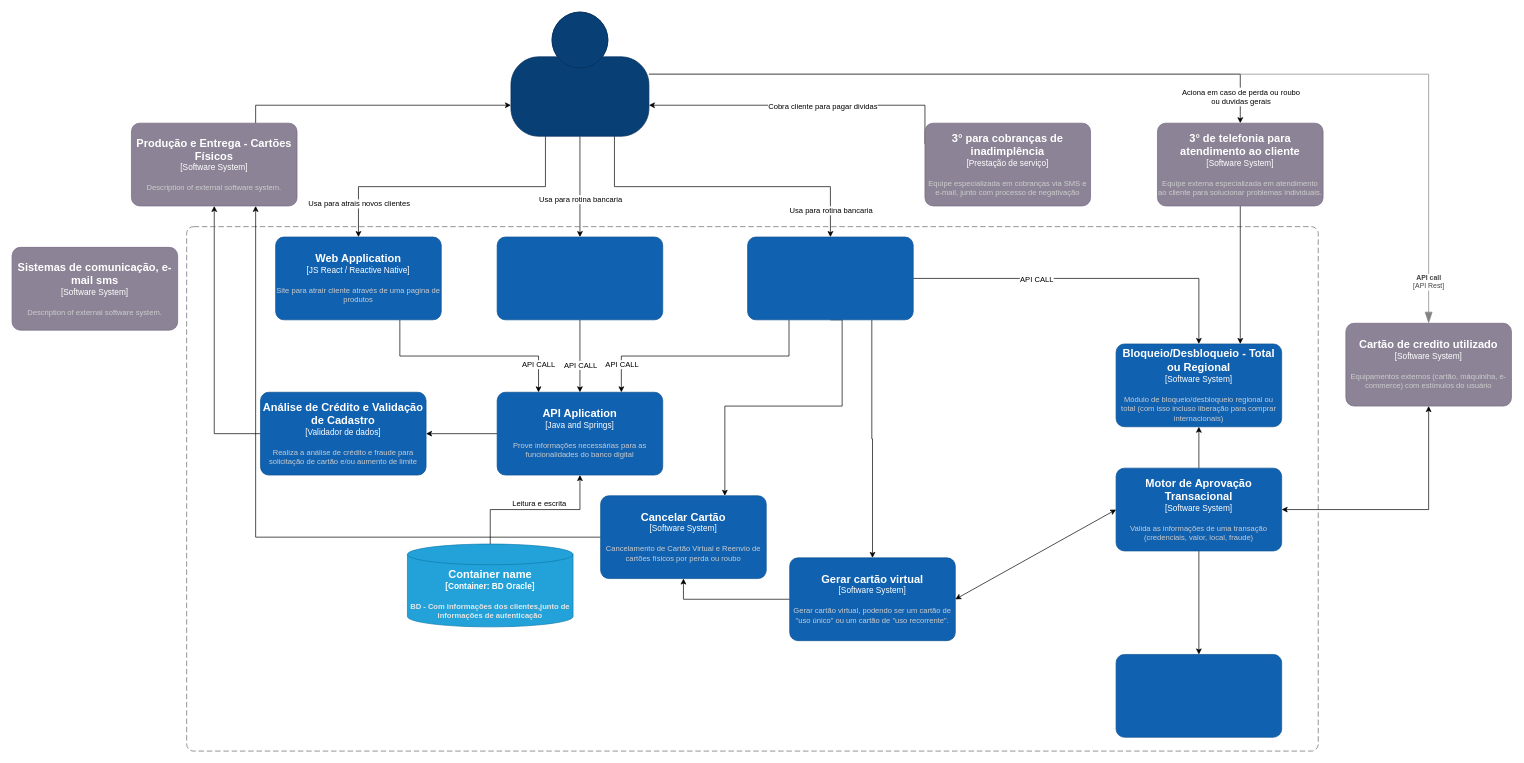
The diagram is 1524 pixels wide and 763 high, and some of its shapes have lost their labels. Each missing label, with the box of its shape:
App Mobile [Java] Description of software system.: (747, 236, 913, 320)
Pontos [Software System] Description of software system.: (1115, 654, 1282, 737)
System name [Software System]: (186, 226, 1318, 751)
Usuário [Pessoa] Clientes com contas do banco e possíveis clientes: (510, 11, 649, 136)
Web aplication [JS React / React Native] Description of software system.: (496, 236, 663, 320)
